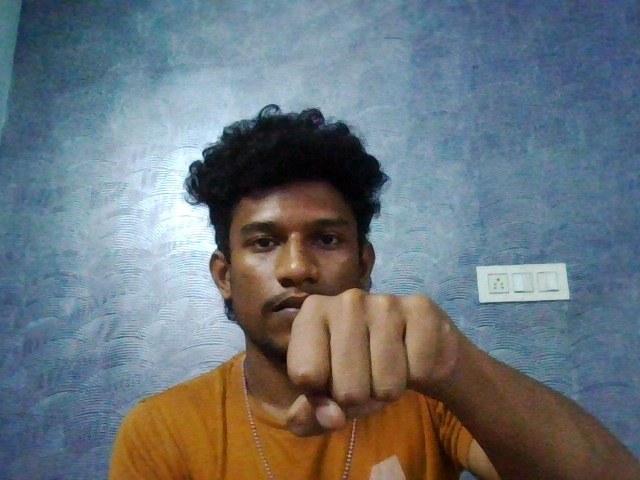yes: (258, 284, 468, 447)
